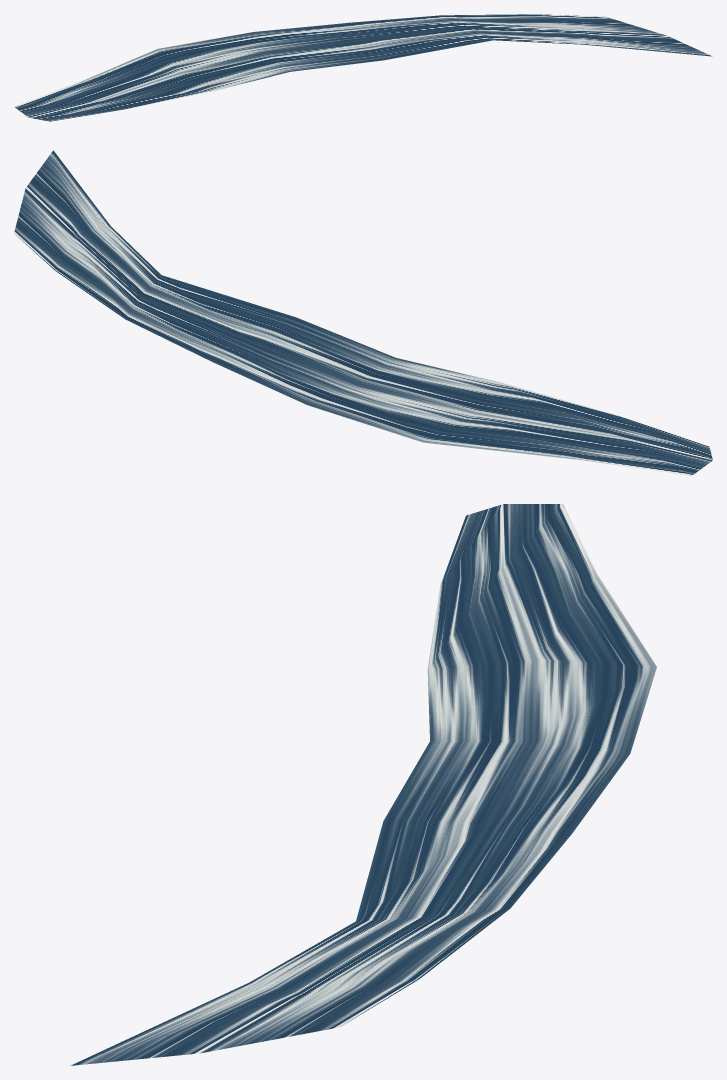
The model's file is shui_01.FBX.
3 views of the same model, one above another, from view 1: azimuth 30°, elevation 25°; view 2: azimuth 150°, elevation 25°; view 3: azimuth 270°, elevation 25° (orthographic). The views are drawn at different scales.
Visible parts, largest first — view 1: shui_01; view 2: shui_01; view 3: shui_01.
Part boxes in pixels (<box>): shui_01: <box>14,14,712,121</box>; shui_01: <box>14,150,712,475</box>; shui_01: <box>70,504,656,1065</box>.
Size of the model in its own units: 170 by 4.6e-15 by 75.16.
